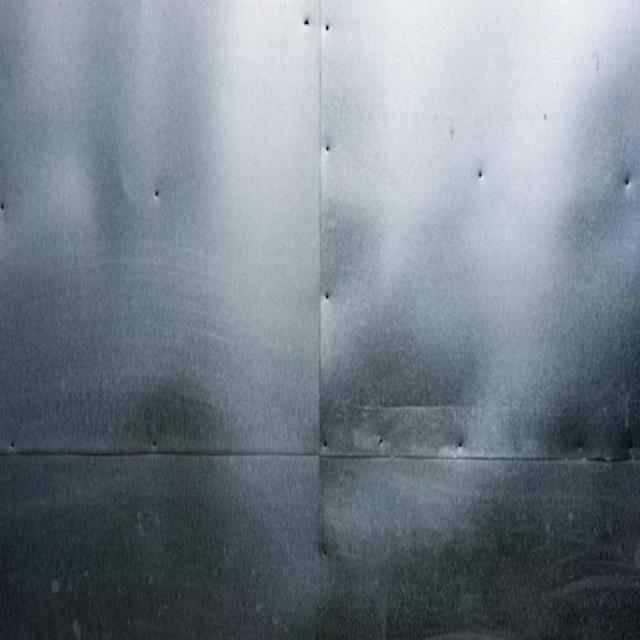dents: (338, 377, 539, 498), (61, 142, 132, 262), (296, 8, 354, 54), (458, 147, 496, 204), (603, 156, 640, 207), (142, 165, 172, 217), (315, 271, 345, 310), (320, 132, 345, 162)
